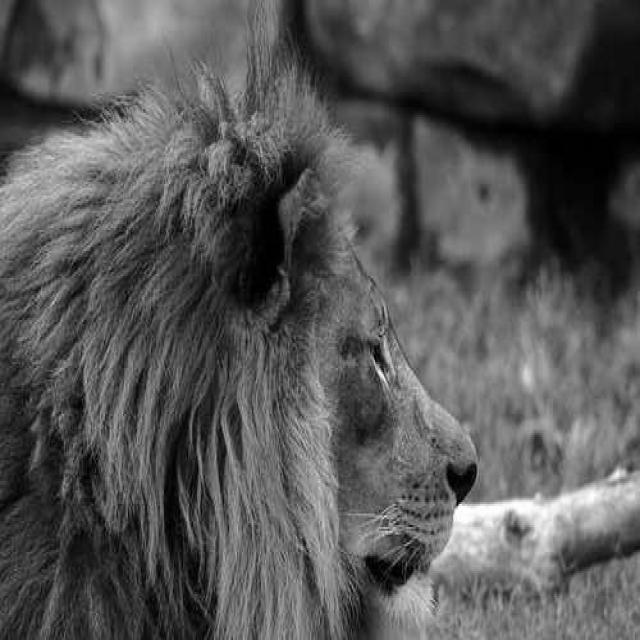Lion: (63, 24, 457, 640)
